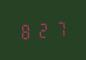eight: (18, 21, 33, 40)
seven: (51, 19, 66, 38)
two: (35, 20, 50, 39)
